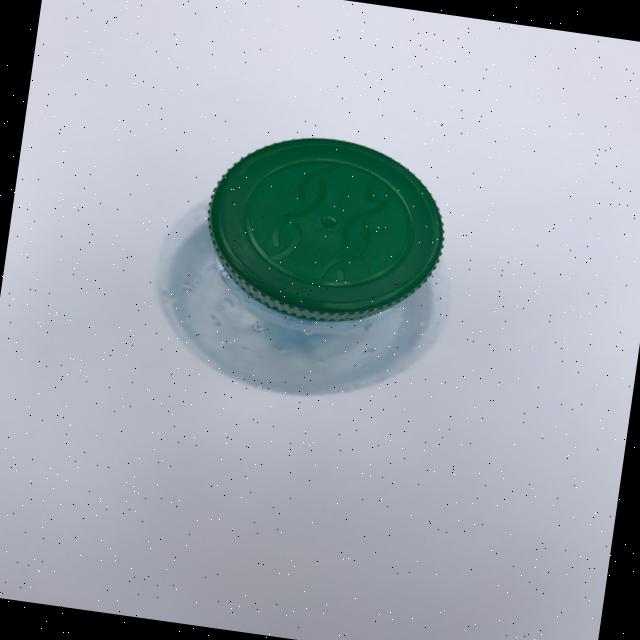plastic: (193, 121, 457, 342)
